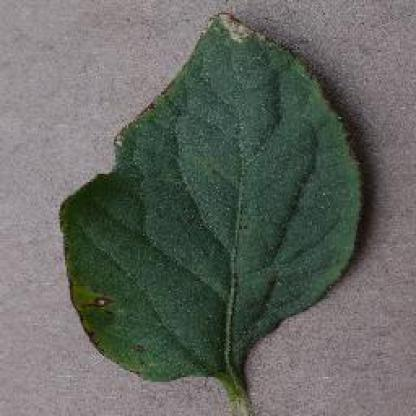bad leaf: (53, 10, 378, 394)
